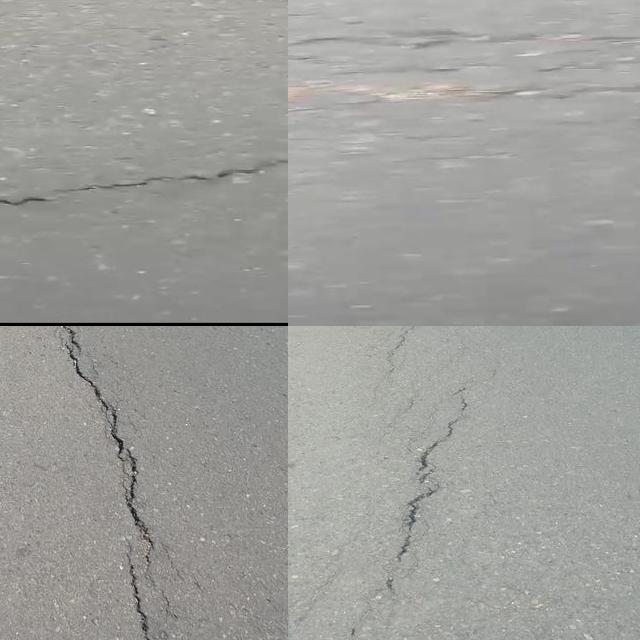Melintang: (0, 148, 288, 204)
Memanjang: (50, 326, 179, 640), (353, 395, 477, 627)
